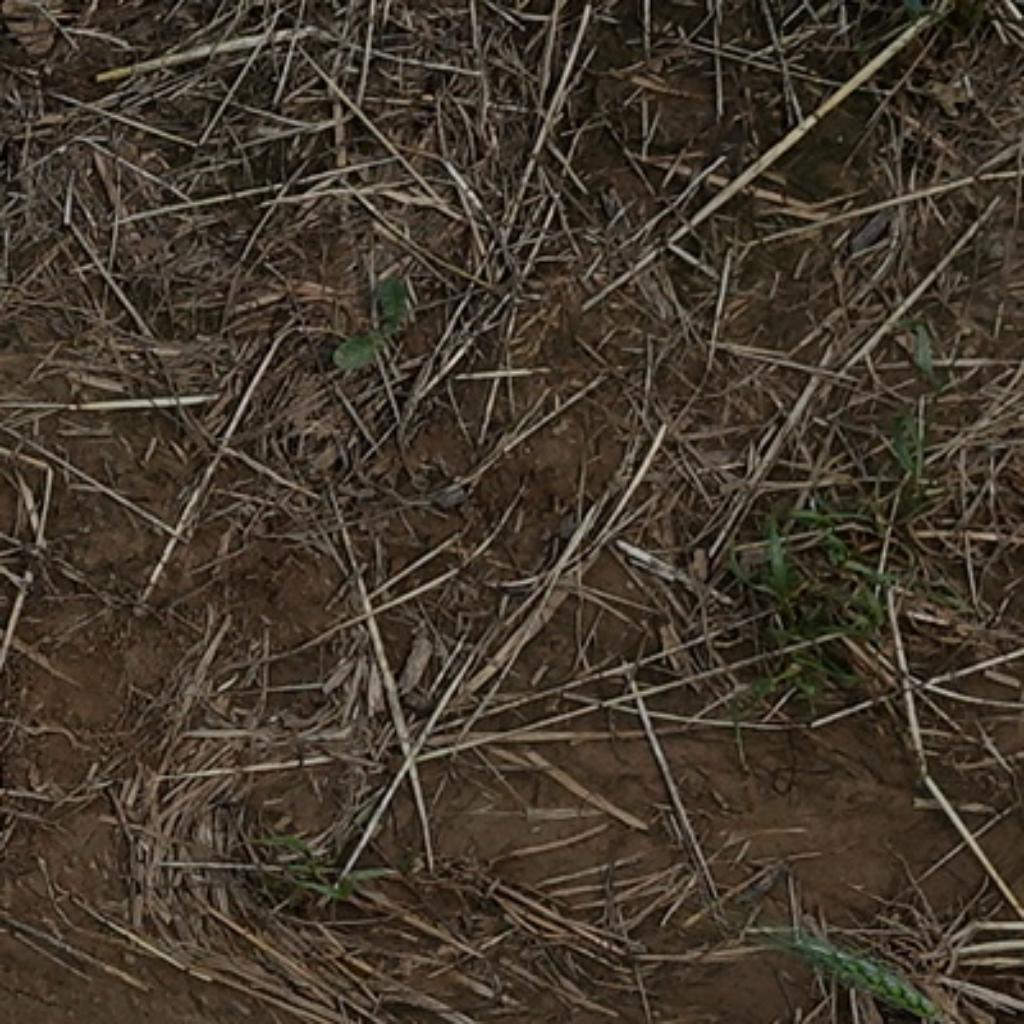0-0: (790, 943, 973, 1024)
